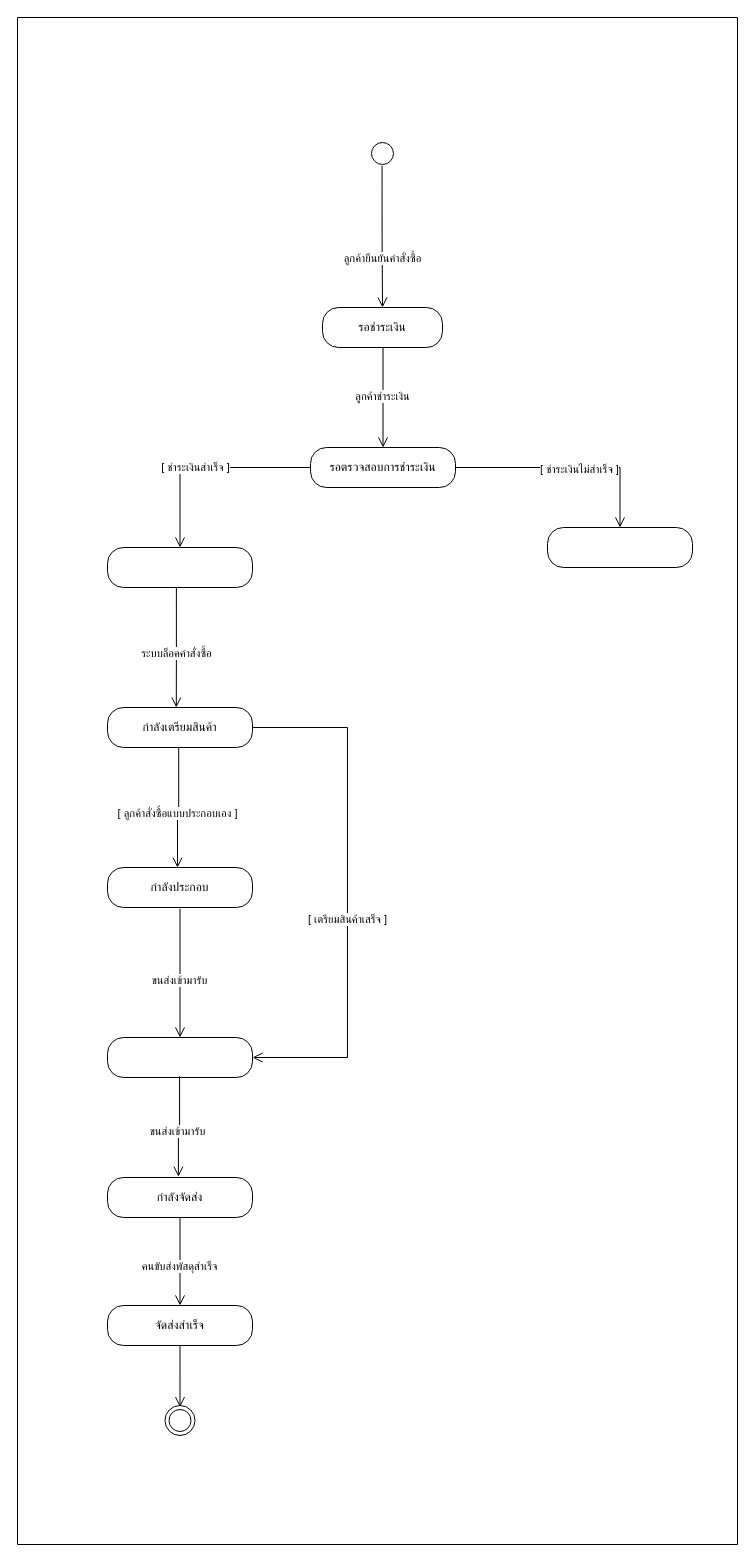
Image size: 755x1562. Some labels were removed from this diagram. The centre of each missing label's shape, as x and y in pixels:
การชำระเงินล้มเหลว: [619,547]
ชำระเงินสำเร็จ: [179,567]
รอขนส่งเข้ารับ: [179,1057]
